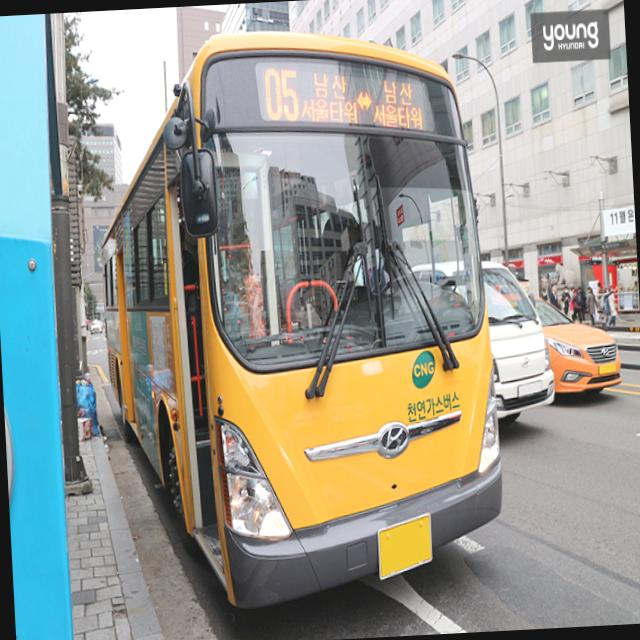bus-number: (262, 63, 300, 124)
